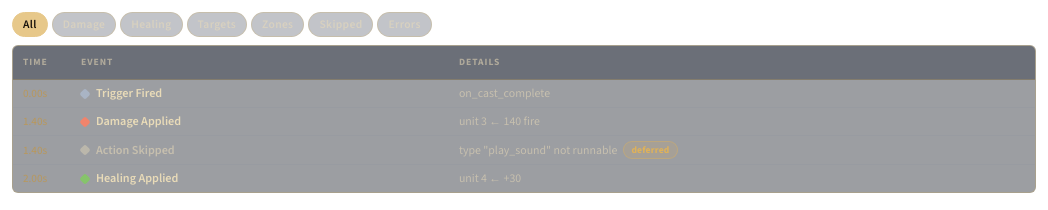
it: PreviewEventLog › filter tabs narrow by type
Click the tab "Damage" at {"x": 84, "y": 24}, box [52, 12, 116, 37]
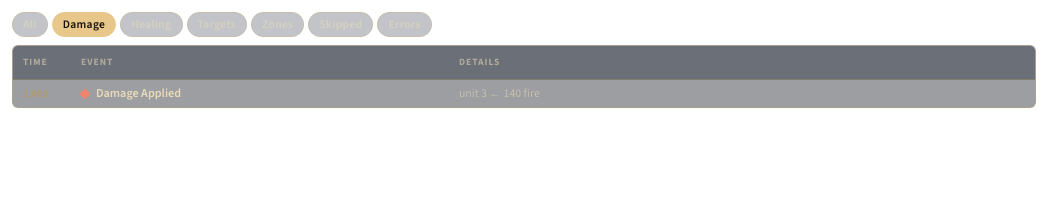
Check: the list item with test id "preview-log-row" shows "Damage Applied", box [13, 80, 1035, 107]
Check: the number of list items with test id "preview-log-row" is 1, box [13, 80, 1035, 107]
